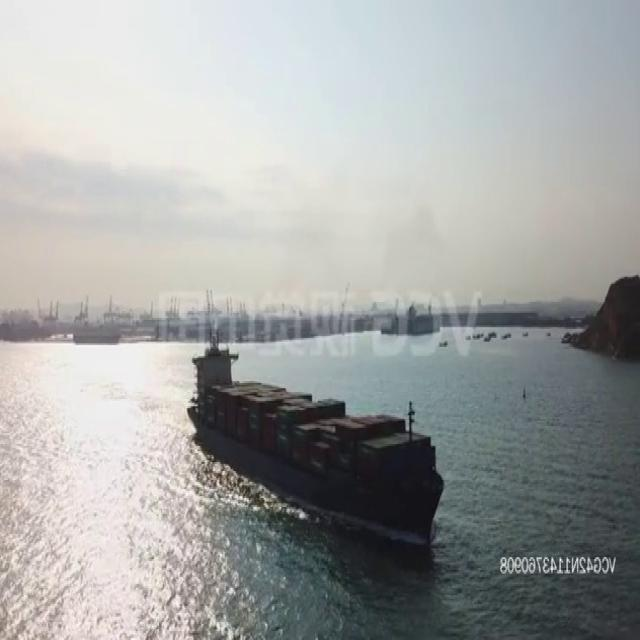cargoship: (184, 339, 448, 544)
